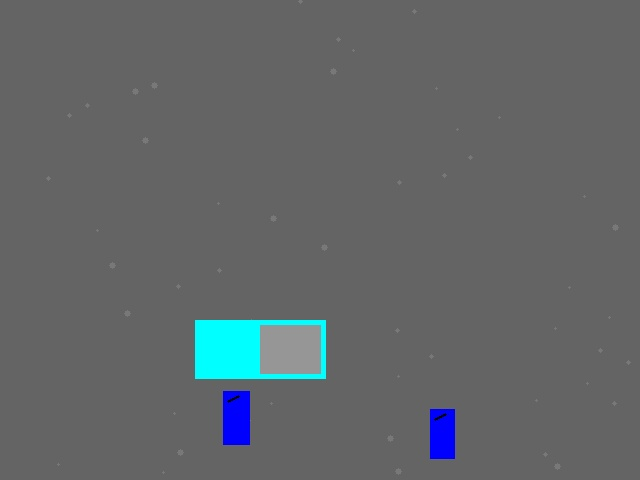motorcycle: (223, 391, 249, 444), (430, 409, 454, 458)
truck: (195, 320, 325, 378)
